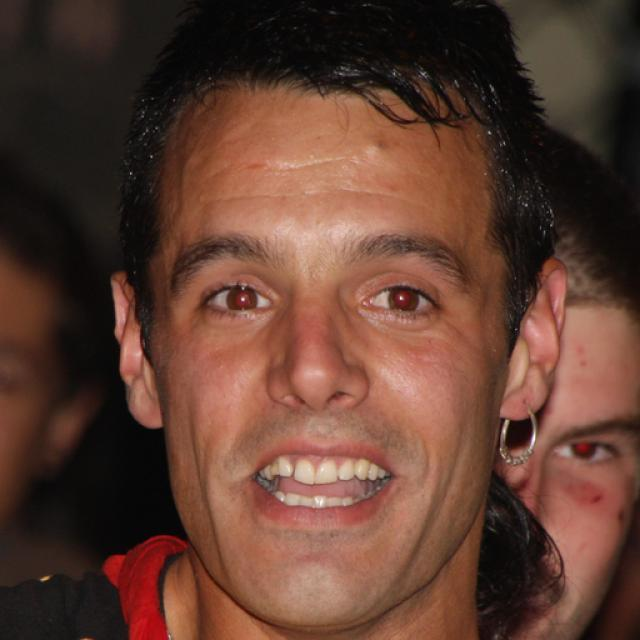happy: (157, 94, 504, 630)
